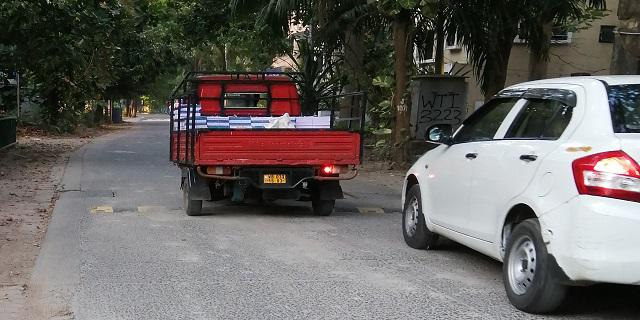Car: (392, 72, 640, 313)
Minitruck: (170, 63, 364, 219)
